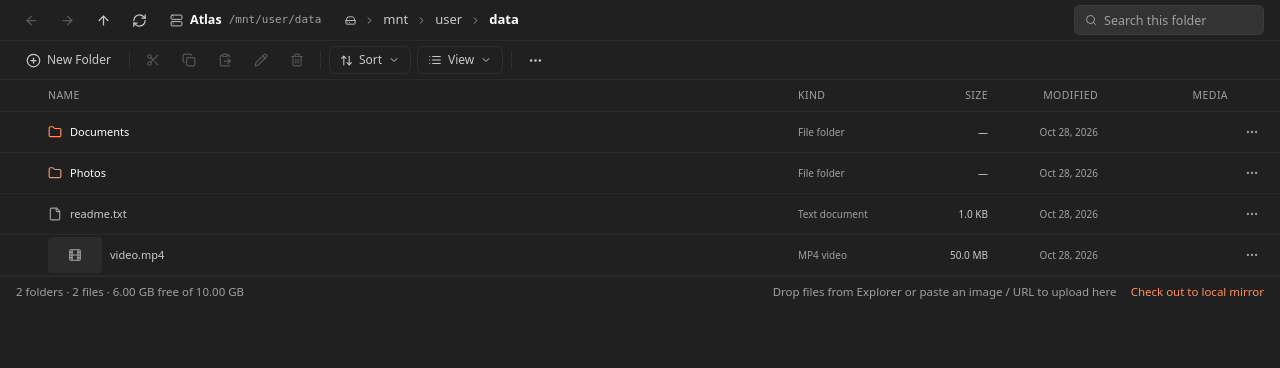
Scenario: Invert selection respects an active search filter › selects every visible entry when none of them were selected
Check: the text "readme.txt" is shown, box [70,206,127,222]
In the field with placeholder "Search this folder": (1178, 20) [1104,12,1253,28], type "o"
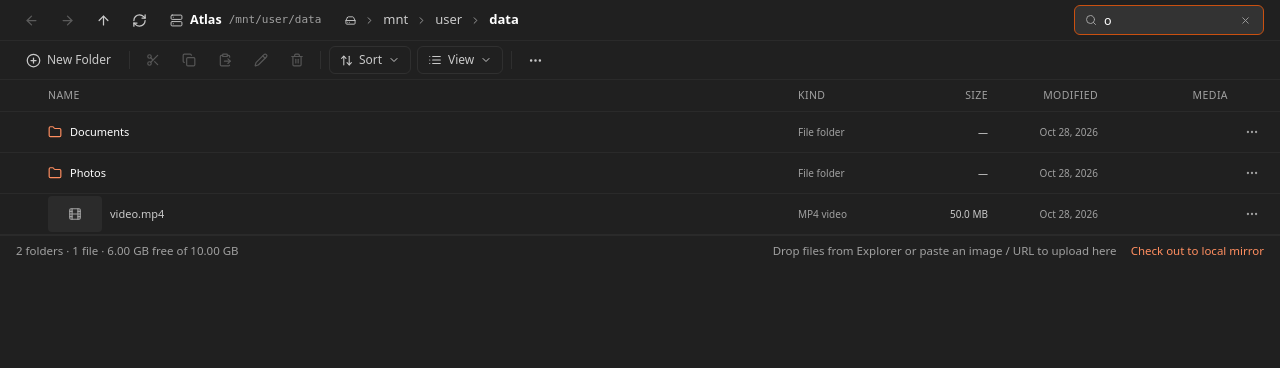
Check: the button "Documents" is shown, box [70,124,129,140]
Click the button named "More options": (535, 60) [520,45,550,75]
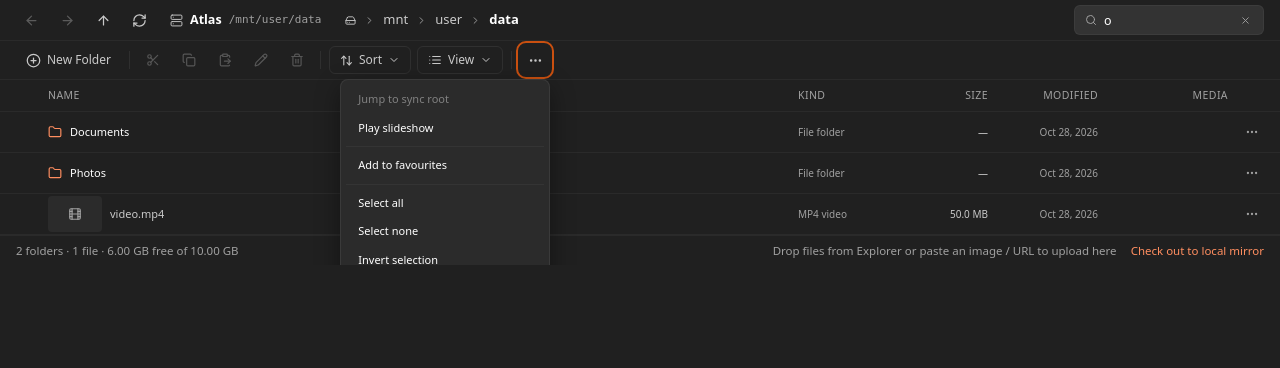
Click the menu item "Invert selection": (445, 260) [346,246,544,274]
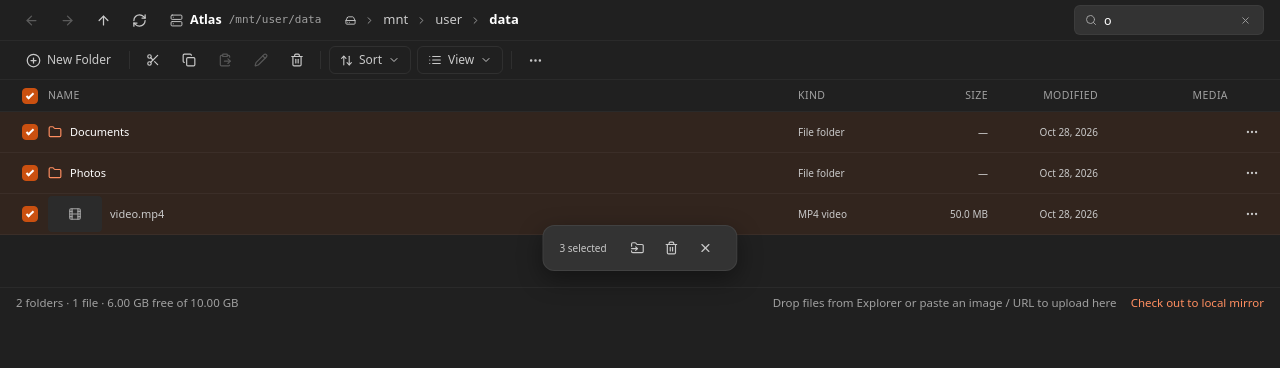
Check: the 2nd checkbox is checked, box [22,124,38,140]
Check: the 3rd checkbox is checked, box [22,165,38,181]
Check: the checkbox next to "video.mp4" is checked, box [22,206,38,222]
Clear the field with placeholder "Search this folder": (1167, 20) [1104,12,1230,28]
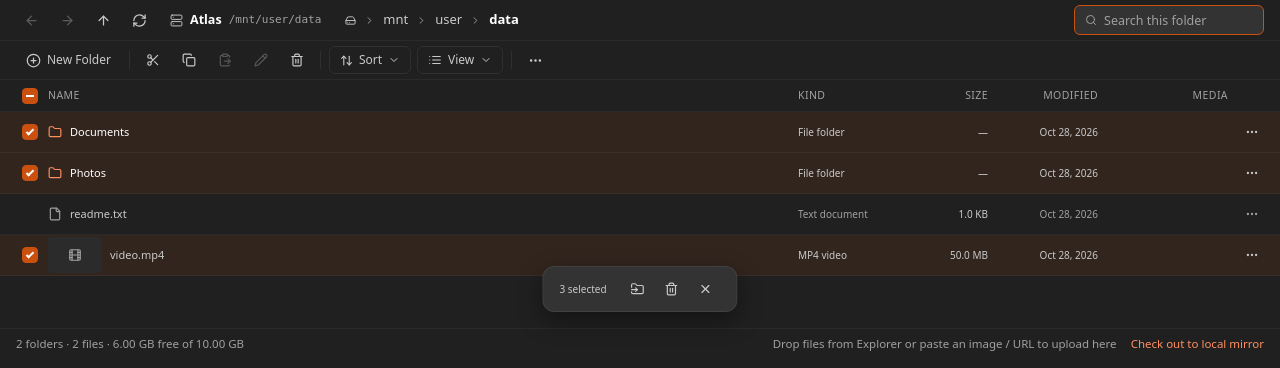
Check: the text "readme.txt" is shown, box [70,206,127,222]
